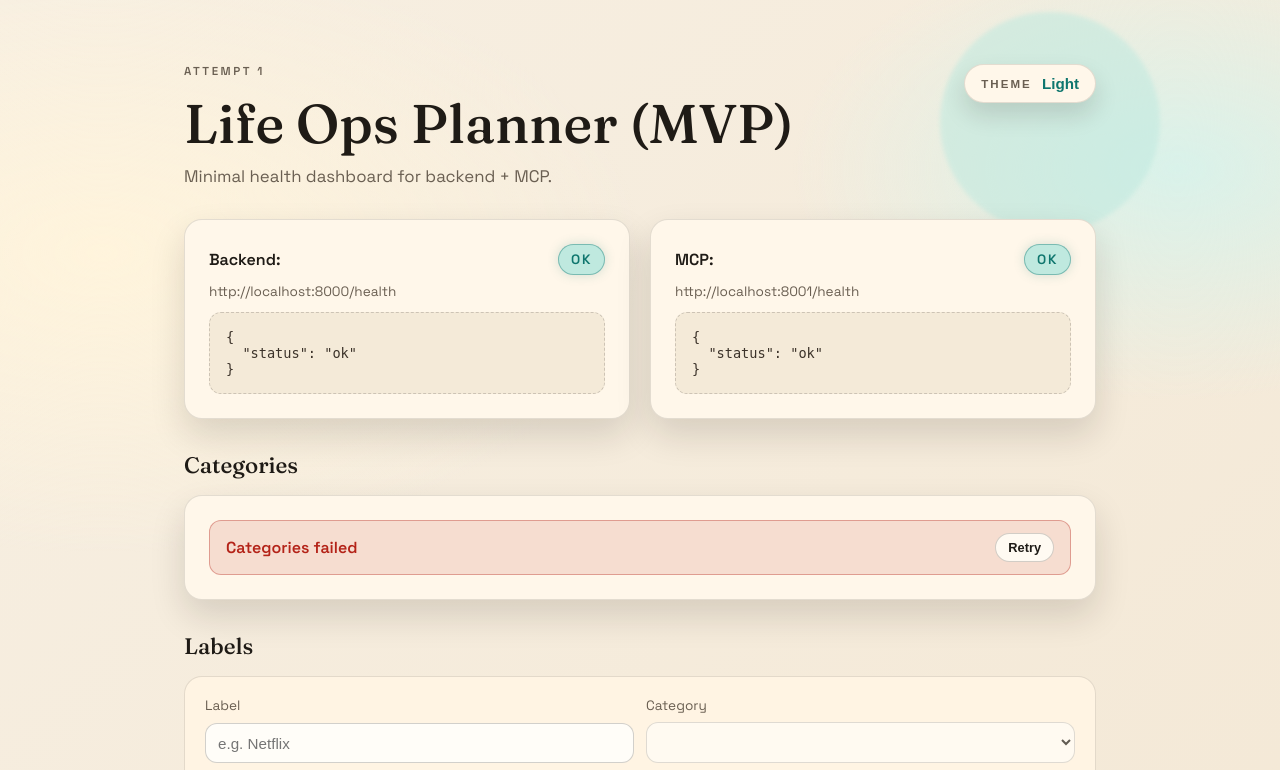
Test: App › shows category load errors and retries
Expected: the text "Categories failed" is shown, [226,537,358,558]
What coordinates should you click on to do the following:
click the button "Retry"
I would click on:
 (1025, 548)
Its box is [995,533,1054,562].
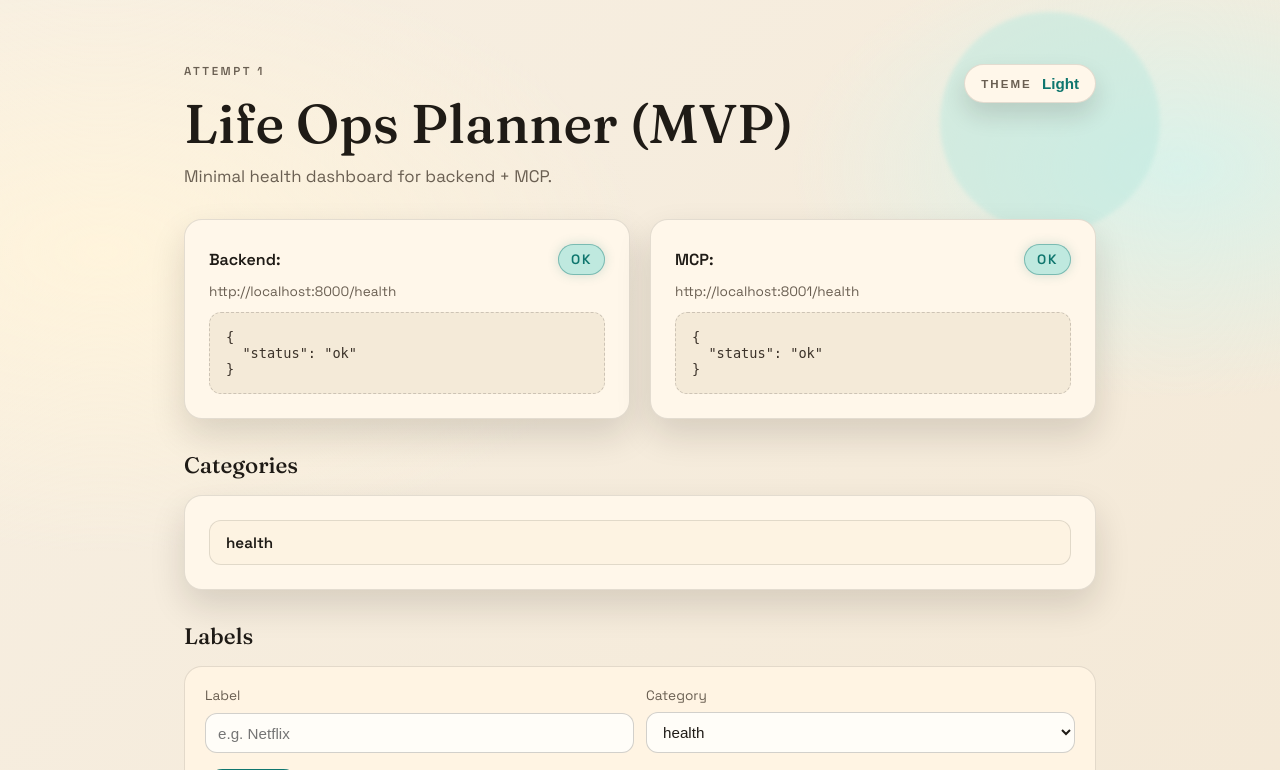
Now the text "health" is shown, box [226,533,273,552]
